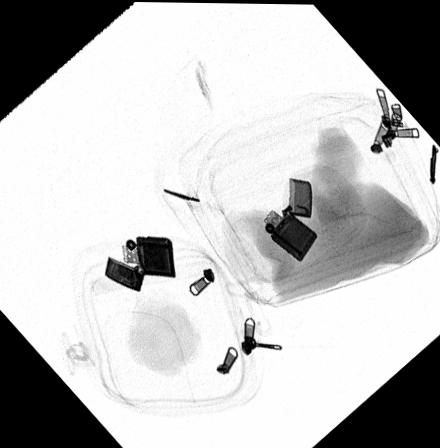Lighter: (263, 176, 319, 261), (104, 234, 177, 291)
